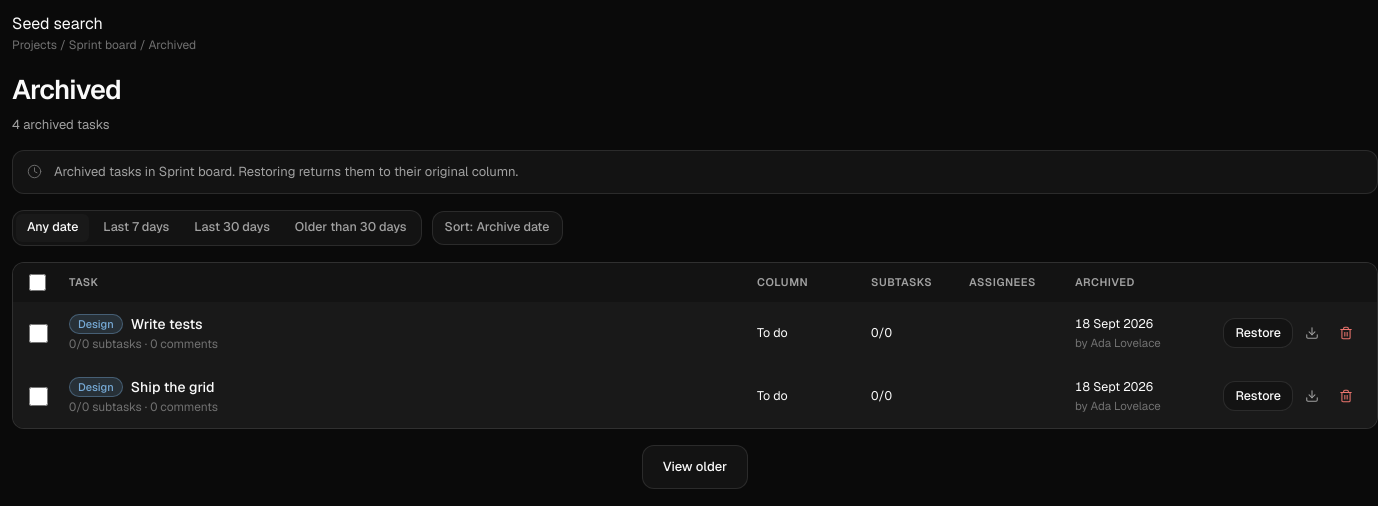
Test: ArchivedView › discards a load-more response that arrives after the new first page
The width and height of the screenshot is (1378, 506).
Click the button "View older" at (695, 466), box [642,444,748,488]
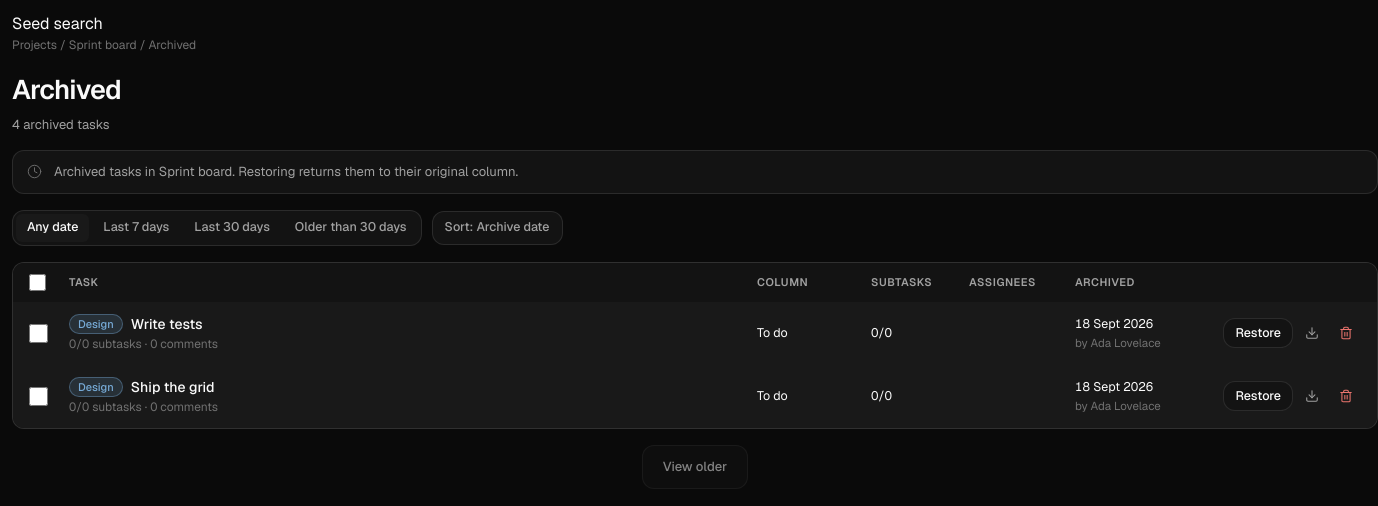
Click the button "Last 7 days" at (136, 228), box [92,214,180,242]
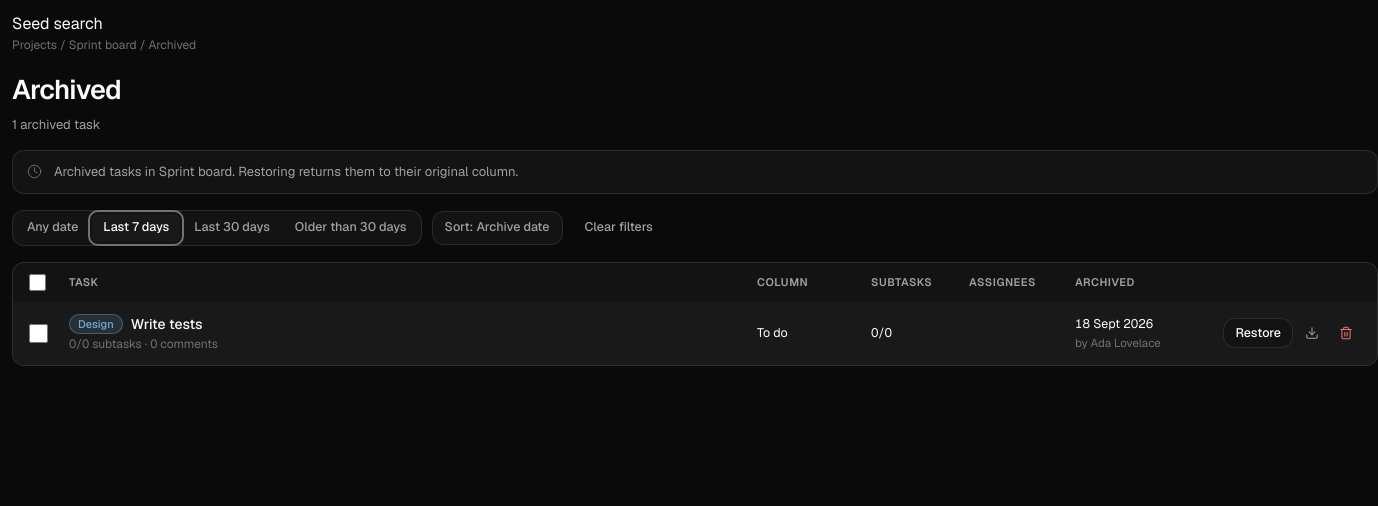
expect the text "Ship the grid" is gone: met
expect the text "1 archived task" is shown: met, box [12,116,100,132]
expect the button "View older" is gone: met
